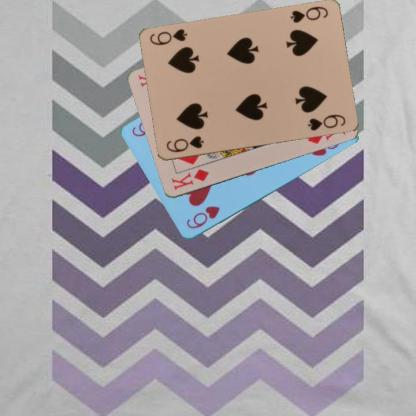6h: (183, 204, 221, 231)
6s: (287, 4, 329, 24), (164, 134, 205, 154)
Kd: (169, 166, 210, 192)
